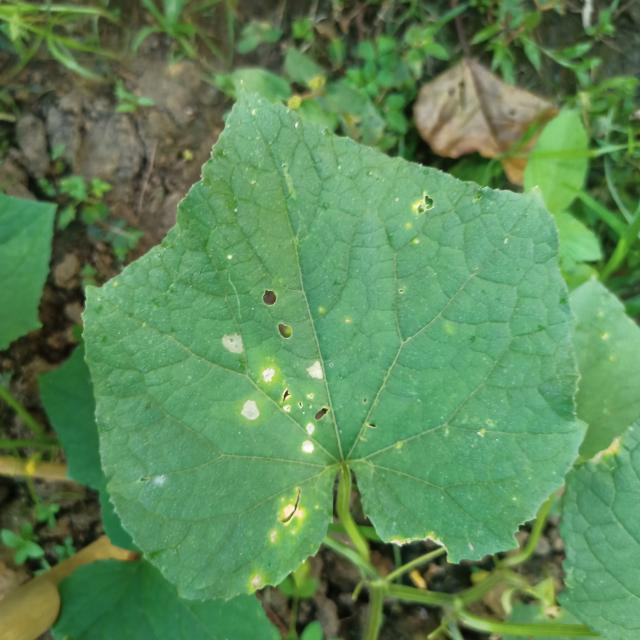disease_cucumber: (212, 322, 341, 464)
